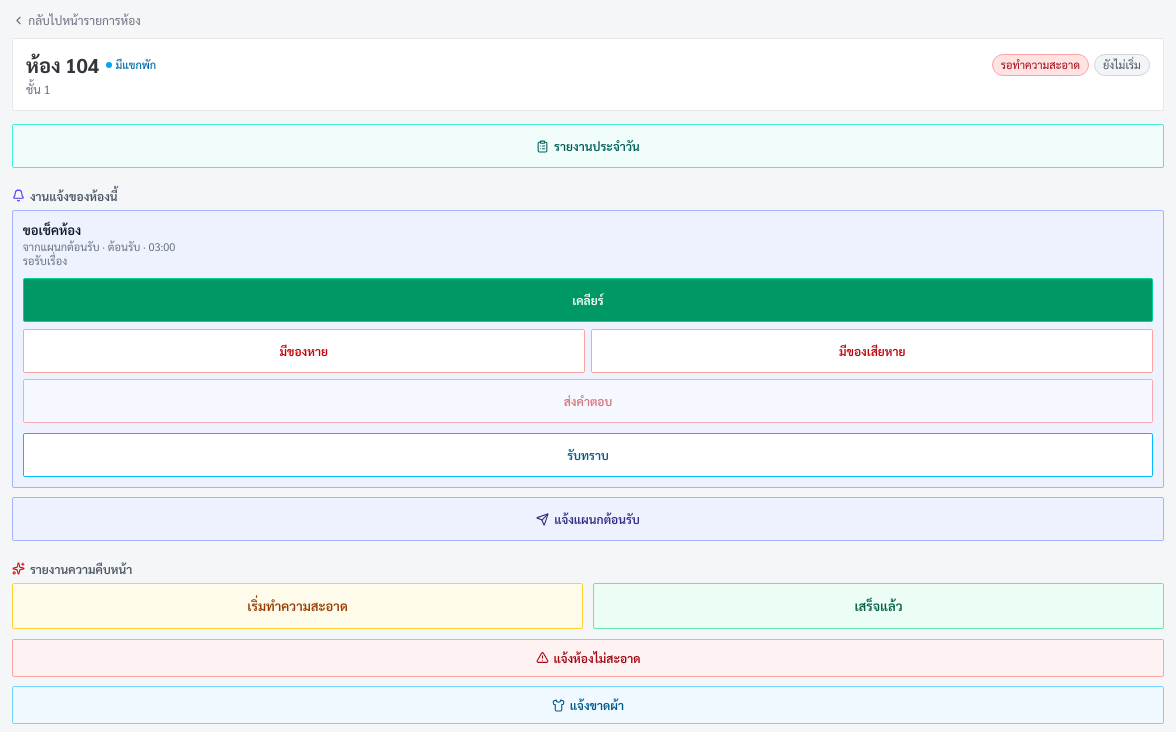
Test: maid — ขอเช็คห้อง answer flow › shows the spawned child signals and drops the answered check
Expected: the heading "ห้อง 104" is shown, [26,52,99,78]
Click the button "มีของหาย".
click(304, 351)  # box [23,329,585,373]
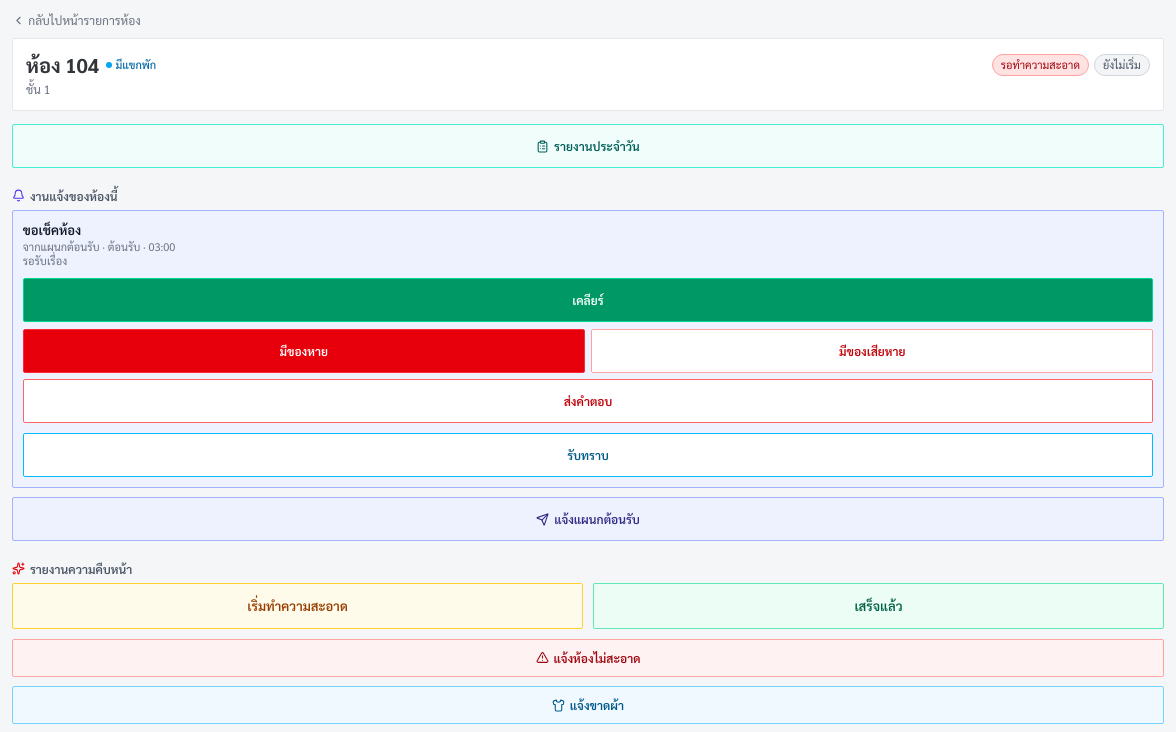
Click the button "ส่งคำตอบ".
click(588, 401)  # box [23,379,1153,423]
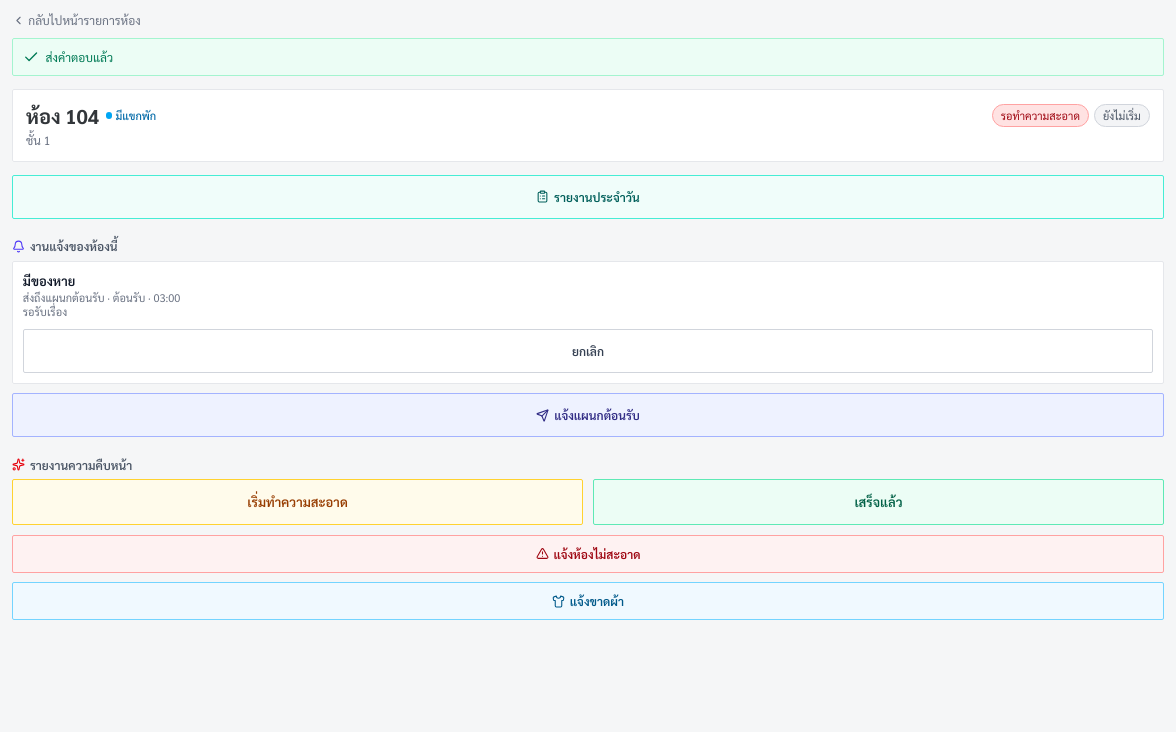
Now the list item with test id "hk-signal-21" is shown, box [12,261,1164,384]
Now the list item with test id "hk-signal-1" is gone
Now the text "มีของหาย" is shown, box [23,272,75,288]
